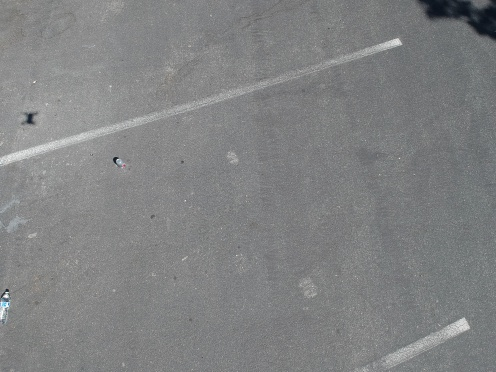bottle: (1, 288, 15, 324)
can: (113, 156, 128, 171)
